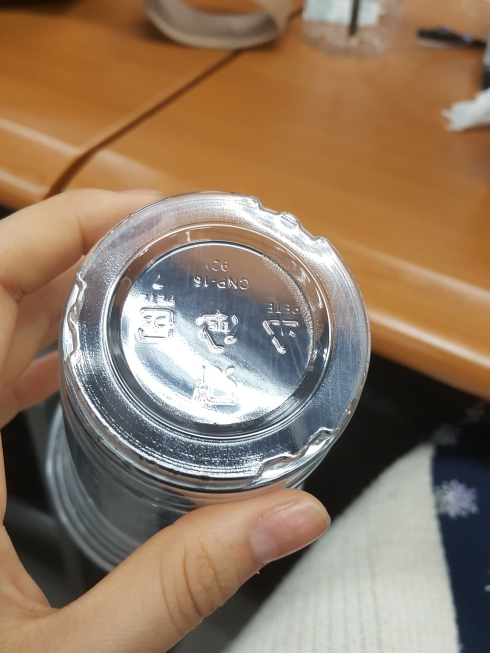recycle: (261, 296, 309, 359)
